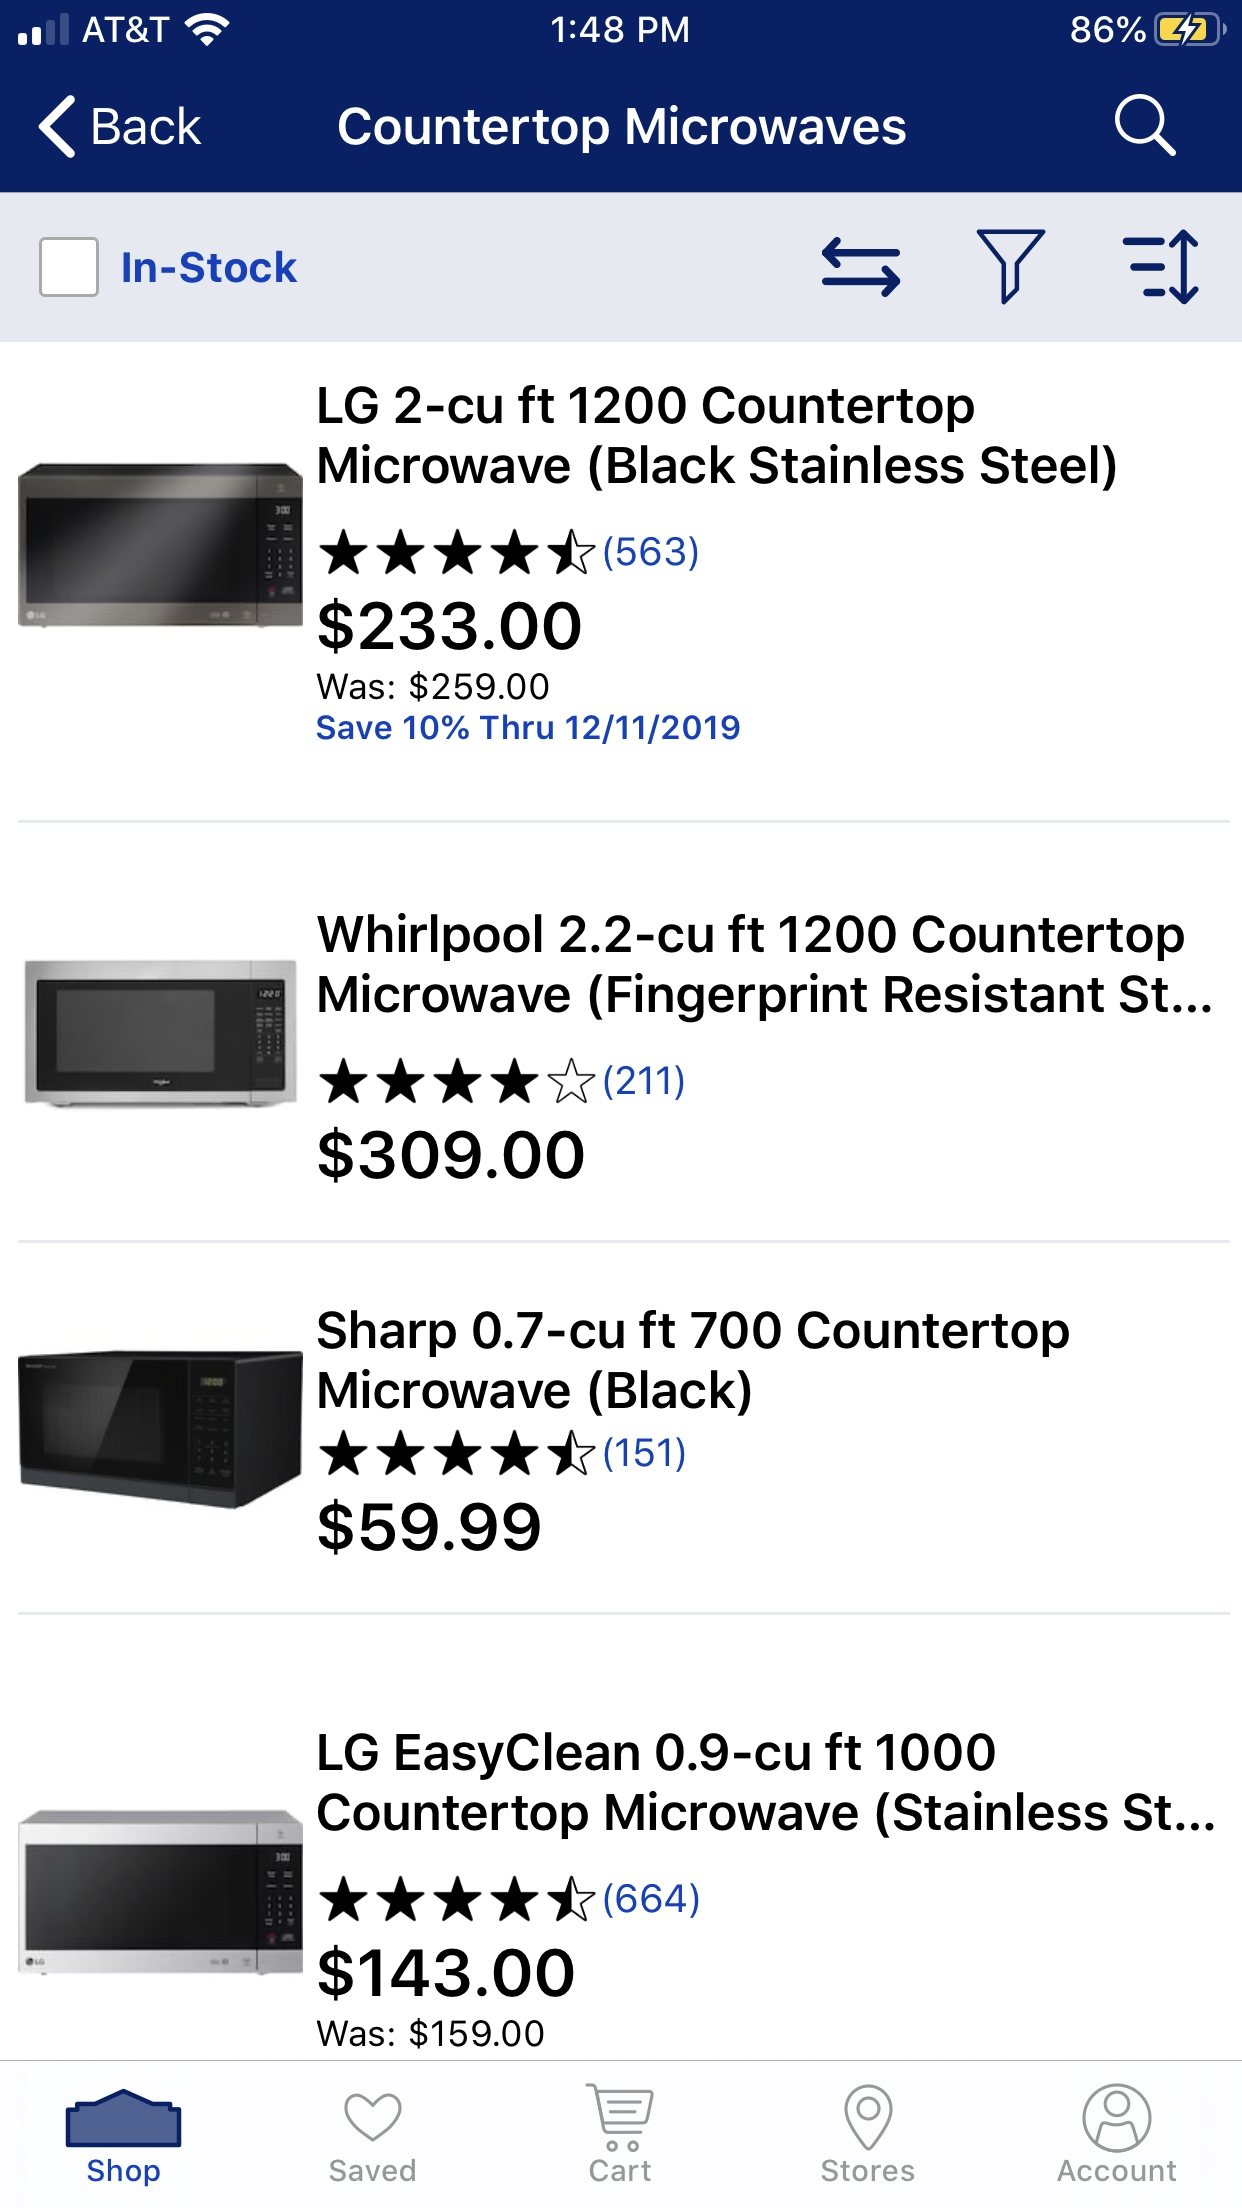CheckedTextView: (39, 238, 299, 299)
Icon: (318, 529, 597, 576), (318, 1059, 597, 1106), (318, 1430, 597, 1476), (320, 1876, 596, 1921), (1122, 227, 1200, 306), (822, 237, 902, 299), (1081, 2084, 1153, 2153), (585, 2084, 655, 2153), (1115, 94, 1177, 158), (845, 2084, 895, 2150), (344, 2093, 403, 2143), (39, 96, 76, 159)
Image: (20, 1811, 305, 1976), (20, 464, 303, 626), (20, 1350, 303, 1510), (24, 961, 297, 1110), (67, 2088, 182, 2147), (977, 229, 1046, 306)
Text: (317, 913, 1212, 1024), (318, 1730, 1215, 1839), (318, 387, 1116, 493), (317, 1310, 1069, 1416), (338, 105, 905, 155), (318, 1127, 584, 1184), (318, 597, 582, 655), (318, 1944, 575, 2002), (317, 714, 742, 746), (318, 1498, 541, 1556), (318, 672, 550, 704), (315, 2018, 544, 2049), (123, 252, 299, 284), (93, 106, 202, 146), (604, 535, 699, 572), (605, 1883, 699, 1918), (605, 1065, 685, 1101), (605, 1438, 685, 1473), (1055, 2159, 1177, 2182), (820, 2158, 914, 2182), (88, 2158, 161, 2187), (331, 2159, 417, 2182), (590, 2158, 652, 2184)
UpperTaskBar: (2, 2, 1242, 49)
